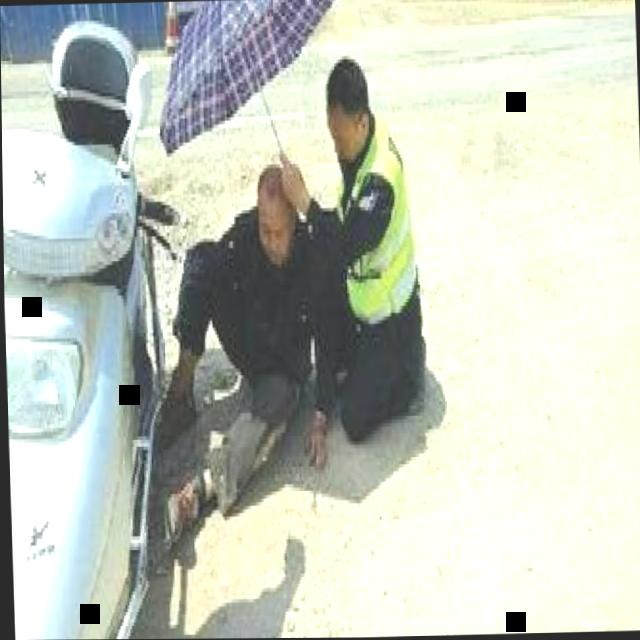Fall-Detected: (135, 139, 336, 553)
